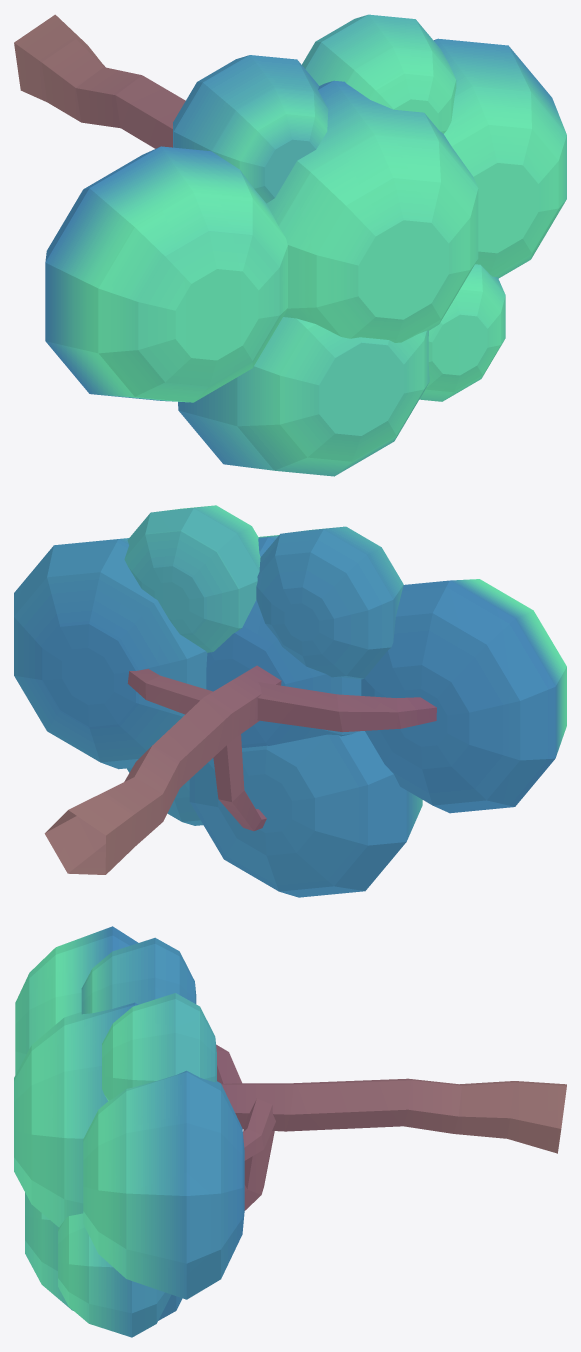
Rendered from tree1.glb.
3 views of the same model, one above another, from view 1: azimuth 30°, elevation 25°; view 2: azimuth 150°, elevation 25°; view 3: azimuth 270°, elevation 25° (orthographic). The views are drawn at different scales.
Parts seen in each view (by area): view 1: tree.002_1; view 2: tree.002_1; view 3: tree.002_1.
Part boxes in pixels (x1,y1,x2,y2): tree.002_1: (14, 14, 566, 476); tree.002_1: (14, 505, 566, 897); tree.002_1: (14, 926, 566, 1337).
Size of the model in its own units: 15.11 by 10.99 by 15.16.
Materials: 1 (1 with a texture image).
